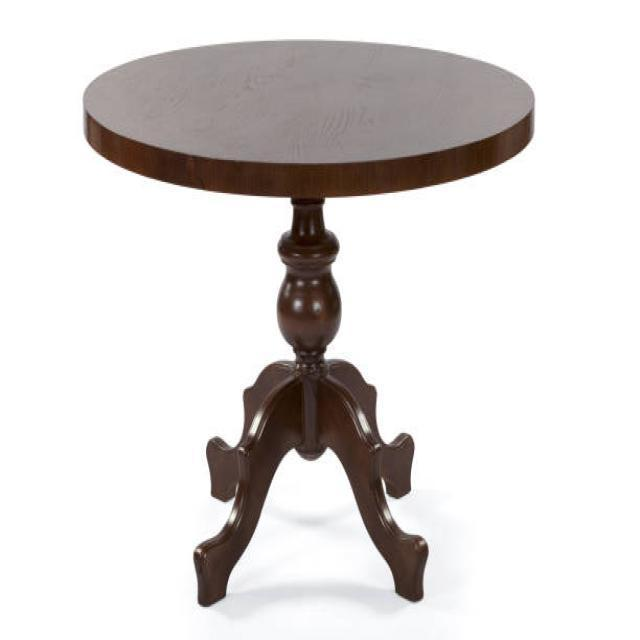table: (82, 36, 536, 607)
